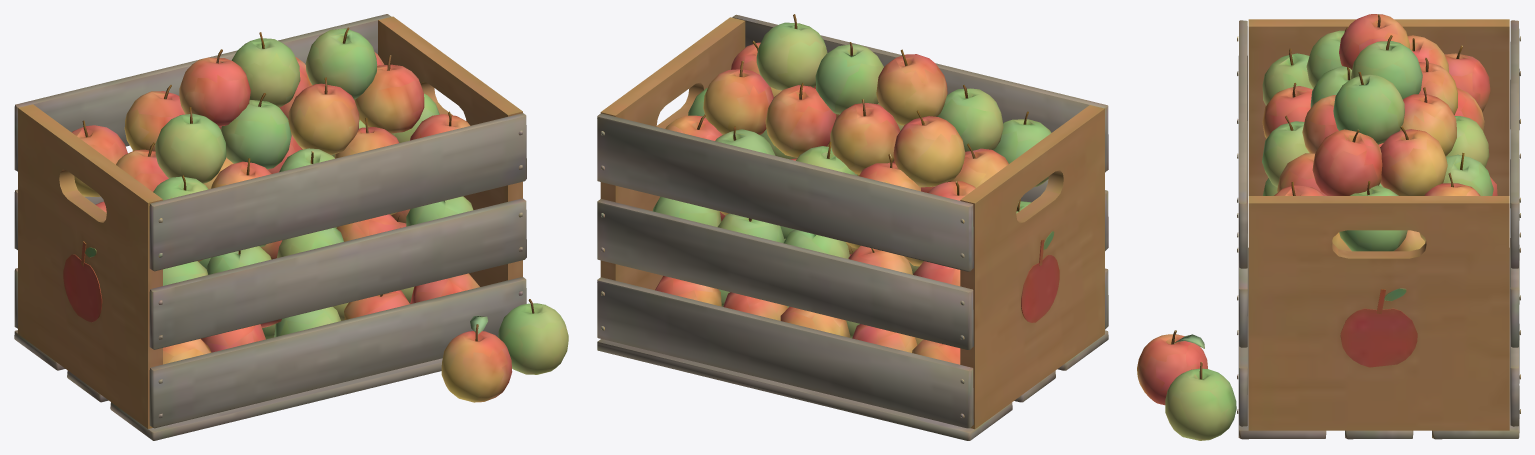
Rendered from apple-crate.glb.
3 views of the same model, side by side, from view 1: azimuth 30°, elevation 25°; view 2: azimuth 150°, elevation 25°; view 3: azimuth 270°, elevation 25° (orthographic).
Visible parts, largest first — view 1: apple-crate_body; view 2: apple-crate_body; view 3: apple-crate_body.
Boxes of the visible parts, bbox=[...] form: apple-crate_body: bbox=[14, 14, 568, 440]; apple-crate_body: bbox=[597, 14, 1108, 440]; apple-crate_body: bbox=[1137, 14, 1520, 440].
Bounding box in the file's own units: 0.5248 × 0.3941 × 0.4412.
Materials: 1 (1 with a texture image).
